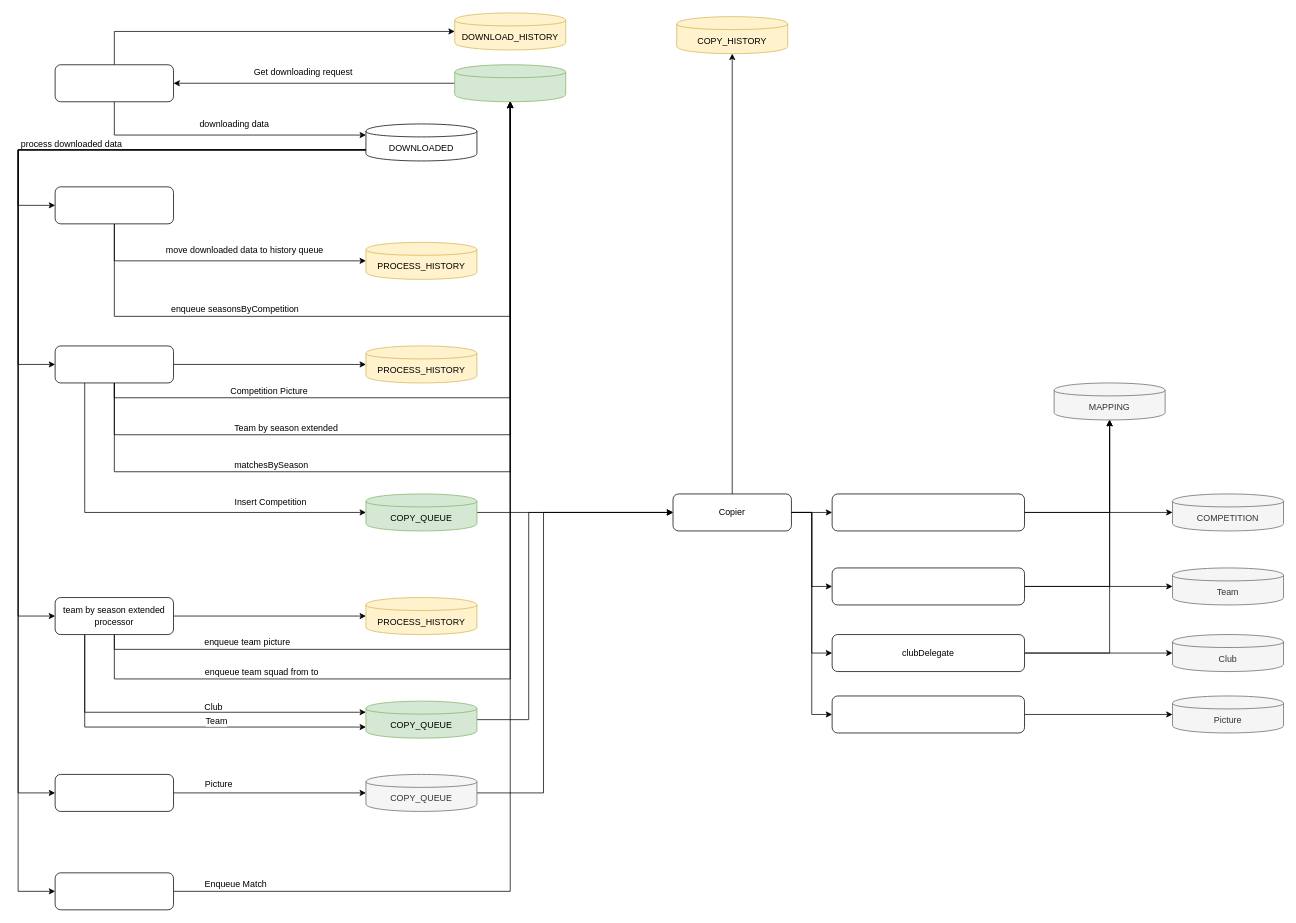
The diagram is 1296 pixels wide and 923 high, and some of its shapes have lost their labels. The centre of each missing label's shape, as x and y in pixels:
"competition list processor" goes at point (114, 205).
"competitionTypeAndCompetitionDelegate" goes at point (928, 512).
"DOWNLOAD_QUEUE" goes at point (510, 83).
"downloader" goes at point (114, 83).
"match by season processor" goes at point (114, 891).
"Picture Processor" goes at point (114, 792).
"pictureDelegate" goes at point (928, 714).
"season by competition processor" goes at point (114, 364).
"teamDelegate" goes at point (928, 586).
